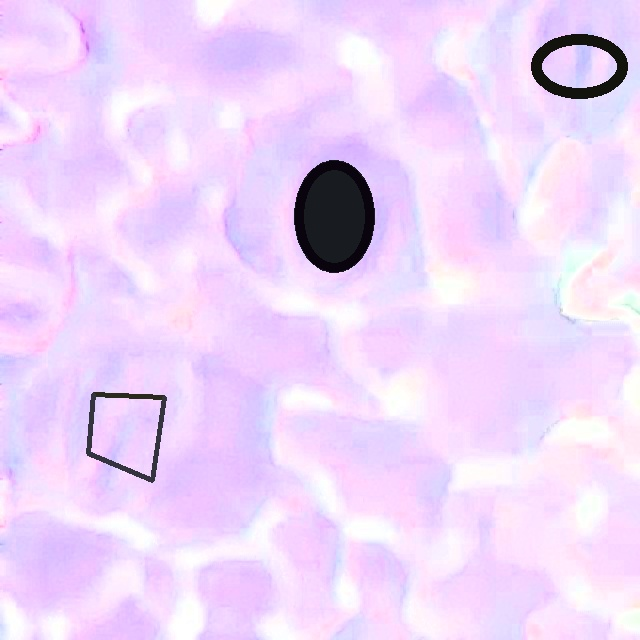close: (294, 160, 374, 273)
open: (86, 392, 166, 482), (531, 34, 627, 99)
